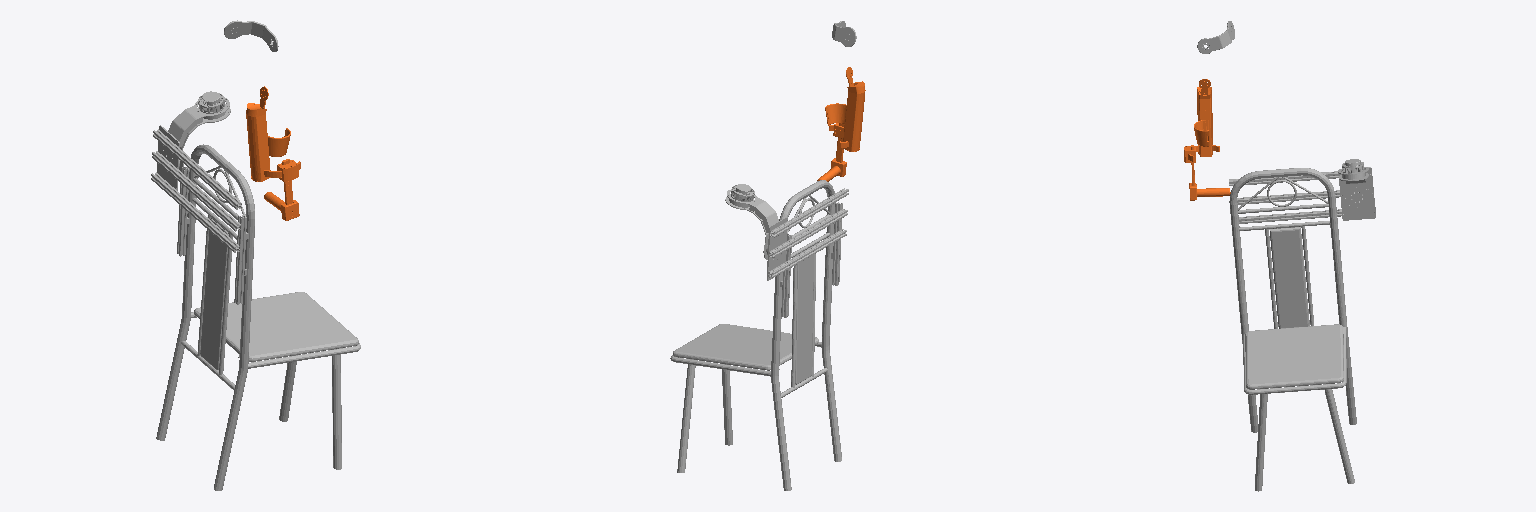
robot.urdf — gim_arm:
<?xml version="1.0"?>
<robot name="gim_arm">

  <!-- Dummy root link to satisfy KDL (added) -->
  <link name="base_footprint"/>

  <!-- Tạo mặt đất ảo -->
  <link name="world"/>

  <!-- Bắt vít gốc của cánh tay xuống mặt đất ảo -->
  <joint name="world_fixed" type="fixed">
    <parent link="world"/>
    <child link="base_footprint"/>
    <origin xyz="0 0 0" rpy="0 0 0"/>
  </joint>

  <!-- Fixed joint from dummy root to base_link (added) -->
  <joint name="base_footprint_to_base_link" type="fixed">
    <parent link="base_footprint"/>
    <child link="base_link"/>
    <origin xyz="0 0 0" rpy="0.083 0 0"/>
    <!-- <origin xyz="0 0 0" rpy="0.1 0 0"/> -->
  </joint>

  <link name="base_link">
    <inertial>
      <origin xyz="0.27344094303007 0.27938715952061 0.510149299908653" rpy="0 0 0" />
      <mass value="6.66855777151619" />
      <inertia
        ixx="0.292932757999248"
        ixy="2.42532565985983E-05"
        ixz="1.4908094022849E-05"
        iyy="0.157532051318604"
        iyz="-0.0223597784843357"
        izz="0.31549969202859" />
    </inertial>
    <visual>
      <origin xyz="0 0 0" rpy="0 0 0" />
      <geometry>
        <mesh filename="package://gim_arm_description/meshes/base_link.STL" />
      </geometry>
      <material name="base_link_color">
        <color rgba="0.752941176470588 0.752941176470588 0.752941176470588 1" />
      </material>
    </visual>
    <collision>
      <origin xyz="0 0 0" rpy="0 0 0" />
      <geometry>
        <mesh filename="package://gim_arm_description/meshes/base_link.STL" />
      </geometry>
    </collision>
  </link>

  <link name="shoulder_link">
    <inertial>
      <origin xyz="-0.166448794327975 0.0056887985806402 -0.0172848581490532" rpy="0 0 0" />
      <mass value="0.190732966677201" />
      <inertia
        ixx="0.000205948851297408"
        ixy="-2.38990127172075E-07"
        ixz="7.27163071554151E-05"
        iyy="0.000237074859368272"
        iyz="-8.24496296171646E-07"
        izz="0.000153162765676654" />
    </inertial>
    <visual>
      <origin xyz="0 0 0" rpy="0 0 0" />
      <geometry>
        <mesh filename="package://gim_arm_description/meshes/shoulder_link.STL" />
      </geometry>
      <material name="shoulder_link_color">
        <color rgba="0.752941176470588 0.752941176470588 0.752941176470588 1" />
      </material>
    </visual>
    <collision>
      <origin xyz="0 0 0" rpy="0 0 0" />
      <geometry>
        <mesh filename="package://gim_arm_description/meshes/shoulder_link.STL" />
      </geometry>
    </collision>
  </link>

  <!-- type đổi continuous -> revolute (bản export mặc định continuous, không giới
       hạn góc; khớp thật của bạn có giới hạn -> phải revolute mới đảm bảo
       lower/upper được các tool tôn trọng). axis lệch trục sạch (không phải
       "1 0 0"), nên xác nhận lại với CAD xem đây là lệch thật hay nhiễu mate. -->
  <joint name="base_joint" type="revolute">
    <origin xyz="0.031381 -0.48621 0.64846" rpy="1.4637 1.364 1.4753" />
        <!-- <origin xyz="0.031381 -0.48621 0.64846" rpy="1.4637 1.364/1.744 1.4753" /> -->
    <parent link="base_link" />
    <child link="shoulder_link" />
    <axis xyz="0.99932 -0.031099 -0.019999" />
    <!-- effort/velocity giờ suy ra từ đúng 3 con số phần cứng, quy về PHÍA
         KHỚP (trục ra) chứ không phải phía rotor:
           1) GIM6010-8: 5Nm định mức / 11Nm stall tại trục ra hộp số nội bộ
              8:1, tức phía rotor là 0.625Nm định mức.
           2) controller.config.vel_limit = 20 rev/s phía rotor
              = 20*2*pi = 125.66 rad/s.
           3) gear_ratio TỔNG mỗi khớp (khai trong khối ros2_control bên dưới,
              cùng nguồn mà gim_arm_system.cpp đọc): base 8, shoulder 64
              (8 nội bộ x 8 hộp ngoài), elbow 8.
         Suy ra: effort = 0.625 * N, tức base/elbow 5Nm và shoulder 40Nm;
         velocity = 125.66 / N, tức base/elbow 15.708 rad/s và shoulder 1.963.
         Dùng mô-men ĐỊNH MỨC (liên tục), không dùng stall 11Nm/88Nm: stall
         chỉ có trong thời gian ngắn và bị giới hạn nhiệt, không nên để
         planner coi là dùng được liên tục trên thiết bị đeo vào người.
         CẦN XÁC NHẬN: vel_limit=20 rev/s là giá trị cấu hình của driver, nên
         đọc lại bằng odrivetool (axis0.controller.config.vel_limit) trên từng
         driver thật; nếu khác thì sửa lại theo công thức 125.66/N. -->
    <limit lower="-0.7121" upper="1.0226" effort="5" velocity="15.708" />
  </joint>

  <link name="upper_arm_link">
    <inertial>
      <origin xyz="-0.020736655172626 0.102615712569984 -0.0918424005027231" rpy="0 0 0" />
      <mass value="1.15563310050408" />
      <inertia
        ixx="0.0046453378861501"
        ixy="-0.000106201197109939"
        ixz="-0.000256625754245197"
        iyy="0.00528562874184763"
        iyz="-0.00041294658184148"
        izz="0.0010644214679654" />
    </inertial>
    <visual>
      <origin xyz="0 0 0" rpy="0 0 0" />
      <geometry>
        <mesh filename="package://gim_arm_description/meshes/upper_arm_link.STL" />
      </geometry>
      <material name="upper_arm_link_color">
        <color rgba="0.545098039215686 0 0.870588235294118 1" />
      </material>
    </visual>
    <collision>
      <origin xyz="0 0 0" rpy="0 0 0" />
      <geometry>
        <mesh filename="package://gim_arm_description/meshes/upper_arm_link.STL" />
      </geometry>
    </collision>
  </link>

  <joint name="shoulder_joint" type="revolute">
    <origin xyz="-0.049966 0.001555 0.00099995" rpy="-1.375708549 0.010247217 1.396947503" />
        <!-- <origin xyz="-0.049966 0.001555 0.00099995" rpy="-1.3842 -0.058173 1.7475" /> -->
    <parent link="shoulder_link" />
    <child link="upper_arm_link" />
    <axis xyz="0 -1 0" />
    <!-- gear_ratio 64 (8 nội bộ x 8 hộp ngoài): mô-men gấp 8 lần base/elbow
         nhưng tốc độ tối đa chỉ còn 1/8. Số cũ (effort 5, velocity 12.5) sai
         cả 2 chiều: khai thiếu 8 lần mô-men thật, và khai thừa 6.4 lần tốc độ
         mà khớp này không bao giờ đạt được. Xem giải thích ở base_joint. -->
    <limit lower="-0.2366" upper="1.3435" effort="40" velocity="1.963" />
  </joint>

  <link name="lower_arm_link">
    <inertial>
      <origin xyz="0.185270162663334 0.00970989472364725 0.0463325988746627" rpy="0 0 0" />
      <mass value="0.846776609767109" />
      <inertia
        ixx="0.000639693628361318"
        ixy="2.29941438911678E-05"
        ixz="0.000253970645035867"
        iyy="0.00160796485183614"
        iyz="1.83629192835509E-05"
        izz="0.00182026575035514" />
    </inertial>
    <visual>
      <origin xyz="0 0 0" rpy="0 0 0" />
      <geometry>
        <mesh filename="package://gim_arm_description/meshes/lower_arm_link.STL" />
      </geometry>
      <material name="lower_arm_link_color">
        <color rgba="1 0.509803921568627 0.196078431372549 1" />
      </material>
    </visual>
    <collision>
      <origin xyz="0 0 0" rpy="0 0 0" />
      <geometry>
        <mesh filename="package://gim_arm_description/meshes/lower_arm_link.STL" />
      </geometry>
    </collision>
  </link>

  <joint name="elbow_joint" type="revolute">
    <origin xyz="-0.014232 0 -0.21358" rpy="1.570809721 1.469492654 -3.141575913" />
        <!-- <origin xyz="-0.014232 0 -0.21358" rpy="-1.5708 1.1931 0" /> -->
    <parent link="upper_arm_link" />
    <child link="lower_arm_link" />
    <axis xyz="0 0 -1" />
    <!-- gear_ratio 8 (chỉ hộp số nội bộ), giống base_joint. -->
    <limit lower="-0.2336" upper="1.7762" effort="5" velocity="15.708" />
  </joint>

<!-- param cho node_id + CAN interface + state velocity + gear_ratio + invert_direction -->
<ros2_control name="GimArmSystem" type="system">
  <hardware>
    <plugin>gim_arm_hardware/GimArmSystemHardware</plugin>
    <param name="can_interface">can0</param>

    <!-- Feedforward cho Set_Input_Pos (0x00C), chỉ có tác dụng ở CHẾ ĐỘ VỊ TRÍ.
         Phải để false khi lấy số nền PID, vì 3 lần chạy nền đã đo với false. -->
    <param name="velocity_feedforward">false</param>
    <param name="gravity_feedforward">false</param>

    <!-- ================= CHẾ ĐỘ MÔ-MEN (đường LQI) =================
         Chỉ bật khi controller claim interface 'effort'. Đường PID không đụng tới.

         QUY ĐỔI MÔ-MEN, giải thích một lần ở đây, khai số riêng trong từng joint:

             tau_driver = torque_sign * tau_khop / torque_gear_ratio

         torque_gear_ratio = gear NGOÀI (tổng / 8 nội bộ), tức các trường mô-men
         trên CAN ở PHÍA TRỤC RA của hộp số nội bộ 8:1. ĐÃ ĐO CẢ HAI CHIỀU:
           . dùng gear TỔNG (phía rotor, theo chú thích manual): mô-men yếu đi 8
             lần, tay rơi tự do, base tụt 32.5 độ trong 2.3 giây
           . dùng gear NGOÀI: khớp phép thử treo 1 kg trong 3-6%
         Nên chú thích manual "0x00E phía rotor" KHÔNG đúng với firmware này.
         Lý do vật lý: firmware nạp torque_constant = 0.669 = 8.27/kv với
         kv = 12.3 rpm/V, mà con số đó đi cùng bộ rated speed 120 rpm, tức phía
         trục ra. Mọi trường mô-men qua CAN dùng chung hằng số đó.

         torque_sign KHÔNG khai ở đây: nó KHÁC NHAU giữa các khớp, đo trực tiếp
         từ chiều chuyển động thật so với chiều trọng lực.

         effort_stale_cycles: forward_command_controller ghi lại giá trị cuối mãi
         mãi nếu lqi_node chết. 50 chu kỳ @100Hz = 0.5 s không đổi một bit nào thì
         plugin coi nguồn phát đã chết và tụt về bù trọng lực. -->
    <param name="effort_stale_cycles">50</param>

    <!-- ================= TRẠNG THÁI HIỆU CHỈNH =================
             khớp        torque_sign   gravity_scale   ghi chú
             base            -1            2.0?        ĐANG ĐO LẠI, xem dưới
             shoulder        +1            1.1         đã chốt
             elbow           -1            0.8         đã chốt

         Đặt bằng:  ros2 param set /lqi_node gravity_scale "[a, 1.1, 0.8]"

         ĐANG CÔ LẬP base_joint: shoulder và elbow bị khoá ở chế độ vị trí bằng
         torque_mode_enable = false. Xong thì xoá hai dòng đó để cả 3 cùng chạy. -->

    <!-- ================= BẢNG CHẾ ĐỘ =================
         Chọn chế độ nào là do BỘ command_interface mà controller đang claim:
           VI TRI  &lt;- 'position' [+ 'velocity' làm Vel_FF]   (JTC, đường PID)
           VAN TOC &lt;- CHỈ 'velocity'                          (0x00D)
           MO-MEN  &lt;- 'effort'                                (0x00E, LQI)
           MIT     &lt;- 'position' + 'effort' cùng lúc           (0x008 impedance)
         Đổi chế độ = switch_controllers, không cần build lại plugin.
         VAN TOC và MIT CHƯA KIỂM CHỨNG TRÊN TAY THẬT. MIT mặc định TẮT. -->
    <!-- <param name="enable_mit_mode">true</param> -->
  </hardware>

  <joint name="base_joint">
    <command_interface name="position"/>
    <command_interface name="velocity"/>
    <command_interface name="effort"/>
    <state_interface name="position"/>
    <state_interface name="velocity"/>
    <param name="can_node_id">0</param>
    <param name="invert_direction">true</param>

    <!-- torque_sign = -1: đo được khớp này rơi 0.43 rad với dấu -1, và 0.77 tới
         1.00 rad với dấu +1. Rơi ÍT HƠN với -1 nên -1 là chiều đúng.
         max_torque_joint_nm 1.5: |G| đỉnh của khớp này 1.181 Nm, dư địa 27%. -->
    <param name="torque_sign">-1</param>
    <param name="torque_gear_ratio">1.0</param>
    <param name="max_torque_joint_nm">1.5</param>

    <!-- KHÔNG khai torque_mode_enable  =  mặc định true  =  ĐANG THỬ khớp này.

         VÌ SAO ĐO LẠI: alpha = 2.0 tìm được lần trước là con số kém tin nhất
         trong ba khớp, vì ba lý do:
           . |G_base| chỉ 0.61 Nm ở tư thế thử, nhỏ nhất trong ba khớp, nên
             "khoảng lơ lửng" do ma sát tĩnh rộng nhất: +/- f/G, tới +/-49%
             nếu ma sát 0.3 Nm. 2.0 có thể đang ở MÉP khoảng chứ không phải giữa.
           . 2.0 lệch hơn hẳn hai khớp kia (1.1 và 0.8). Nếu đây là hệ số quy đổi
             của đường truyền thì ba khớp phải gần nhau, vì cùng loại driver,
             cùng firmware.
           . mô-men đo được ở khớp này nhiễu 293% giá trị trung bình.

         CÁCH ĐO ĐÚNG: quét tìm CẢ HAI MÉP, không dừng ở giá trị đầu tiên thấy
         đứng yên.
             alpha_duoi = giá trị CUỐI CÙNG còn rơi
             alpha_tren = giá trị ĐẦU TIÊN bắt đầu bật lên
             alpha_chon = (alpha_duoi + alpha_tren) / 2
         Bề rộng khoảng cho luôn ước lượng ma sát: f = G * (alpha_tren - alpha_duoi)/2

         SAU ĐÓ LẶP Ở TƯ THẾ KHÁC. Hệ số quy đổi là tính chất đường truyền nên
         KHÔNG đổi theo tư thế; sai mô hình thì đổi.
             alpha giống nhau  -> hệ số quy đổi, cách làm hiện tại đúng
             alpha khác rõ     -> mô hình G_base sai, phải sửa <axis>/<origin rpy>
         Trường hợp sau thì hiệu chỉnh bằng alpha chỉ là vá tạm và sẽ sai ở
         những tư thế khác trên quỹ đạo. -->
  </joint>

  <joint name="shoulder_joint">
    <command_interface name="position"/>
    <command_interface name="velocity"/>
    <command_interface name="effort"/>
    <state_interface name="position"/>
    <state_interface name="velocity"/>
    <param name="can_node_id">1</param>
    <param name="gear_ratio">64.0</param>

    <!-- torque_sign = +1: ĐÃ CHỐT. Với dấu +1 khớp này DỪNG ở q = 0.264, nằm
         TRONG dải hợp lệ, giữ với biên độ 2e-05 rad. Đó là lơ lửng thật, không
         phải tựa cữ. Với dấu -1 nó rơi 0.72 rad.
         gravity_scale = 1.1, tức c = 0.909, mô hình thiếu 9%.
         max_torque_joint_nm 5.0: |G| đỉnh 4.102 Nm, dư địa 22%. -->
    <param name="torque_sign">1</param>
    <param name="torque_gear_ratio">8.0</param>
    <param name="max_torque_joint_nm">5.0</param>

    <!-- KHOÁ để cô lập base_joint. Khớp này ở lại chế độ vị trí ngay cả khi
         controller claim 'effort'; driver giữ cứng nó tại chỗ đang đứng.
         XOÁ DÒNG NÀY khi đã đo xong base và muốn chạy cả 3 khớp. -->
    <!-- <param name="torque_mode_enable">false</param> -->
  </joint>

  <joint name="elbow_joint">
    <command_interface name="position"/>
    <command_interface name="velocity"/>
    <command_interface name="effort"/>
    <state_interface name="position"/>
    <state_interface name="velocity"/>
    <param name="can_node_id">2</param>
    <param name="invert_direction">true</param>

    <!-- torque_sign = -1: với -1 khớp này bị ĐẨY NGƯỢC trọng lực (+1.31 rồi
         +0.56 rad), với +1 thì RƠI (-1.79 rad). G_elbow dương suốt cả đường đi
         nên buông ra phải GIẢM q. Suy ra -1 đúng chiều nhưng hơi mạnh.
         gravity_scale = 0.8, tức c = 1.25, mô hình thừa 25%.
         max_torque_joint_nm 2.0: |G| đỉnh 1.518 Nm, dư địa 32%. -->
    <param name="torque_sign">-1</param>
    <param name="torque_gear_ratio">1.0</param>
    <param name="max_torque_joint_nm">2.0</param>

    <!-- KHOÁ để cô lập base_joint. XOÁ DÒNG NÀY khi đã đo xong base. -->
    <!-- <param name="torque_mode_enable">false</param> -->
  </joint>
</ros2_control>

</robot>

--- Facts derived from the render (not from the file) ---
The picture shows the robot from 3 angles, left to right: view 1: azimuth 30°, elevation 25°; view 2: azimuth 150°, elevation 25°; view 3: azimuth 270°, elevation 25°; orthographic projection.
Robot: gim_arm — 6 links, 5 joints (3 revolute, 2 fixed); root link world; default pose: every joint at zero.
Visible links, largest first — view 1: base_link, lower_arm_link, shoulder_link; view 2: base_link, lower_arm_link; view 3: base_link, lower_arm_link, shoulder_link.
Link boxes in pixels (bbox=[...]): base_link: bbox=[151, 91, 360, 490]; lower_arm_link: bbox=[246, 86, 300, 220]; shoulder_link: bbox=[224, 20, 278, 51]; base_link: bbox=[670, 180, 848, 490]; lower_arm_link: bbox=[817, 67, 865, 181]; base_link: bbox=[1229, 159, 1375, 491]; lower_arm_link: bbox=[1184, 79, 1230, 200]; shoulder_link: bbox=[1197, 21, 1234, 53].
Bounding box of the posed robot: 0.5177 × 0.6842 × 1.64 m (x, y, z).
Meshes: 4 distinct files referenced, 3 mesh visuals loaded (3 binary STL); not drawn: 1 (file found but could not be loaded).
